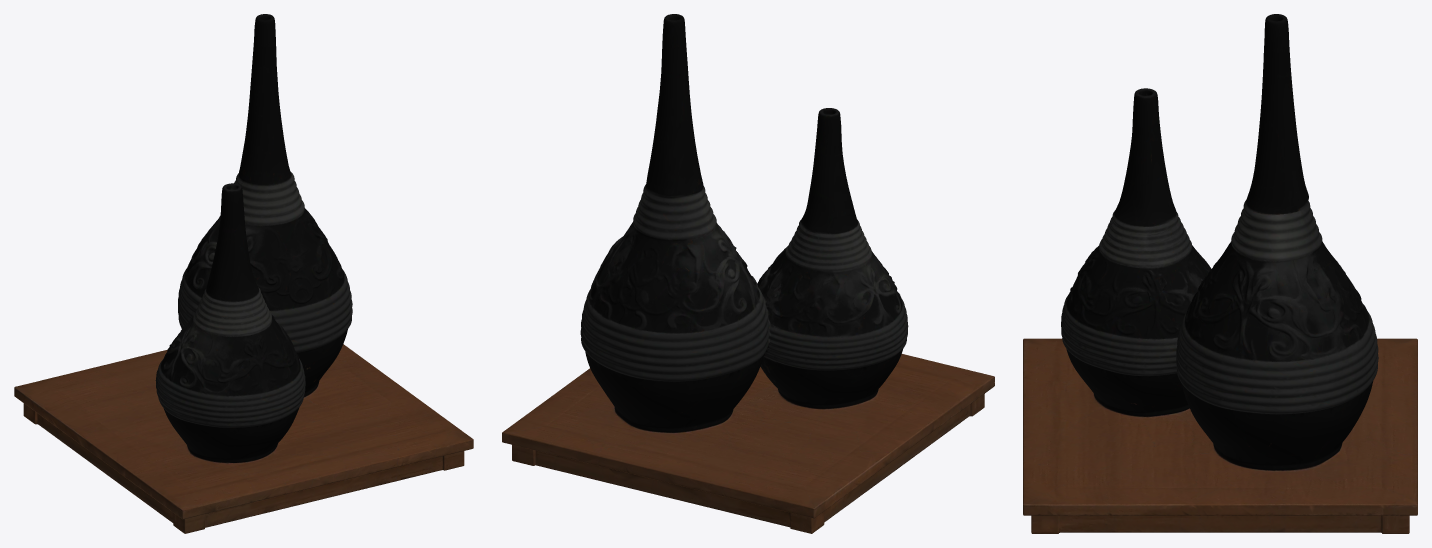
File: pecas-decorativas.glb
3 views of the same model, side by side, from view 1: azimuth 30°, elevation 25°; view 2: azimuth 150°, elevation 25°; view 3: azimuth 270°, elevation 25° (orthographic). The views are drawn at different scales.
Size of the model in its own units: 1.47 by 1.9 by 1.47.
Materials: 1 (1 with a texture image).
